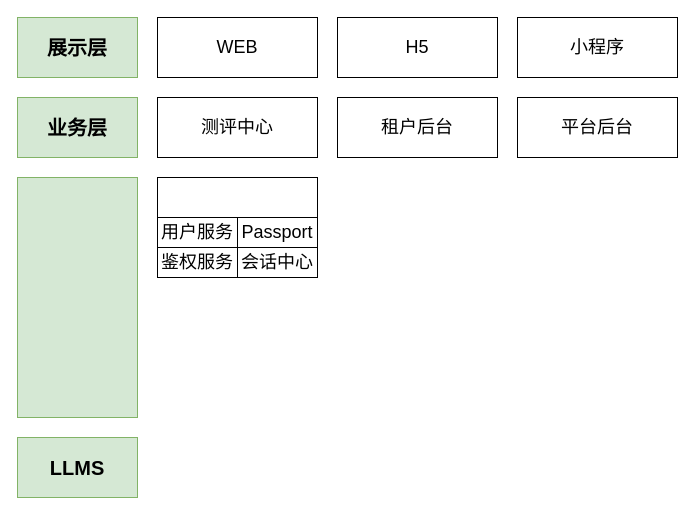
Image size: 695x515. Some labels were removed from this diagram. The shapes that lost their labels are listed below. From the top down, each one's centre as x and y in pixels, then its label:
At (x=237, y=197): "用户中心".
At (x=77, y=297): "中台".
